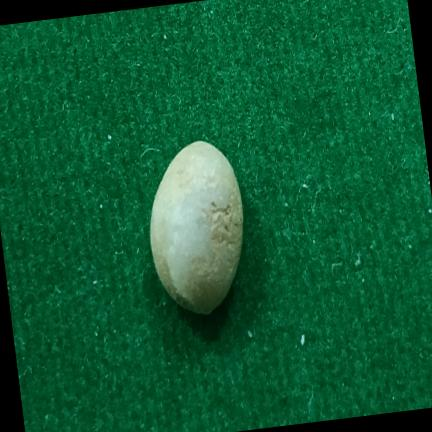good: (150, 141, 243, 314)
